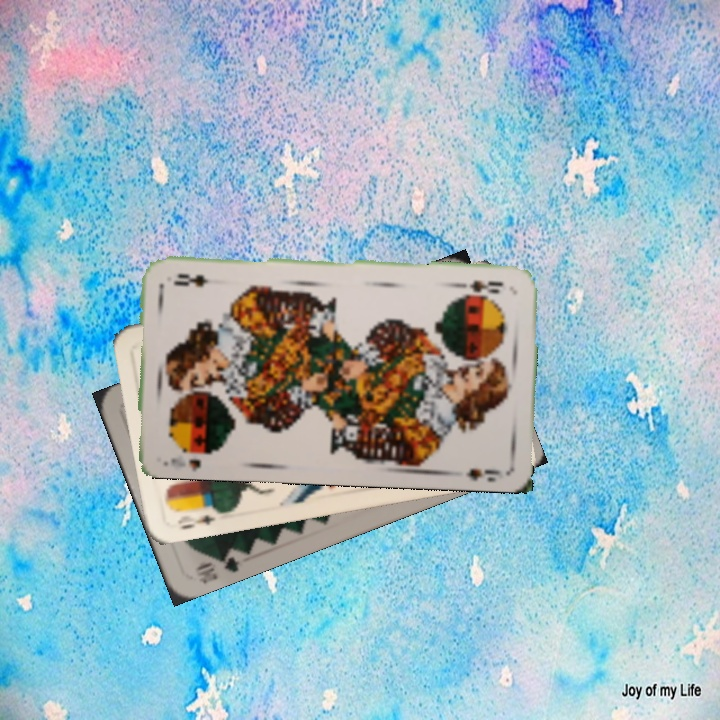EO: (173, 502, 226, 532)
G10: (192, 546, 242, 586)
SO: (158, 443, 217, 470), (455, 276, 506, 296)
